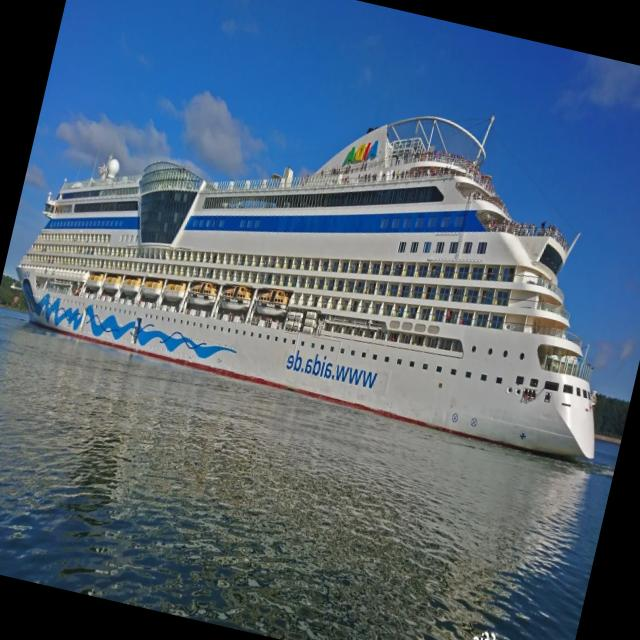Cruise: (16, 116, 595, 459)
